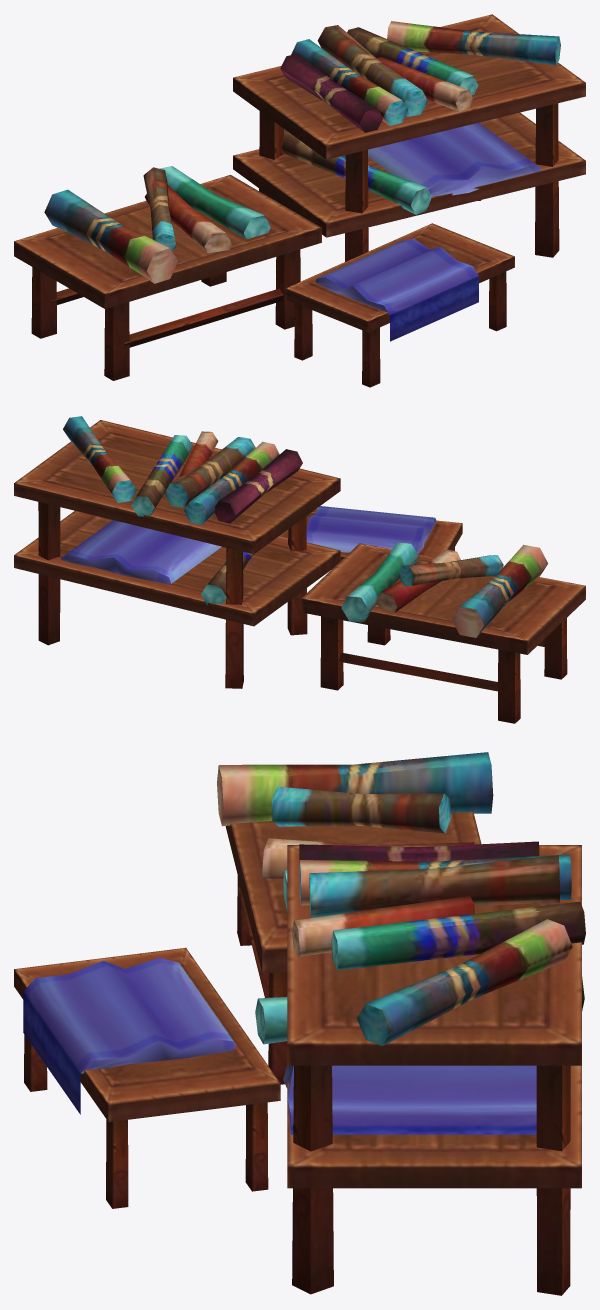
File: szc_object_19abutan.FBX
3 renders of one model, top to bottom at view 1: azimuth 30°, elevation 25°; view 2: azimuth 150°, elevation 25°; view 3: azimuth 270°, elevation 25°, orthographic. The views are drawn at different scales.
Visible parts, largest first — view 1: szc_object_19abutan; view 2: szc_object_19abutan; view 3: szc_object_19abutan.
Part boxes in pixels (x1=…): szc_object_19abutan: x1=14, y1=14, x2=585, y2=387; szc_object_19abutan: x1=14, y1=416, x2=585, y2=723; szc_object_19abutan: x1=14, y1=752, x2=585, y2=1295.
Size of the model in its own units: 169 by 63.32 by 101.
